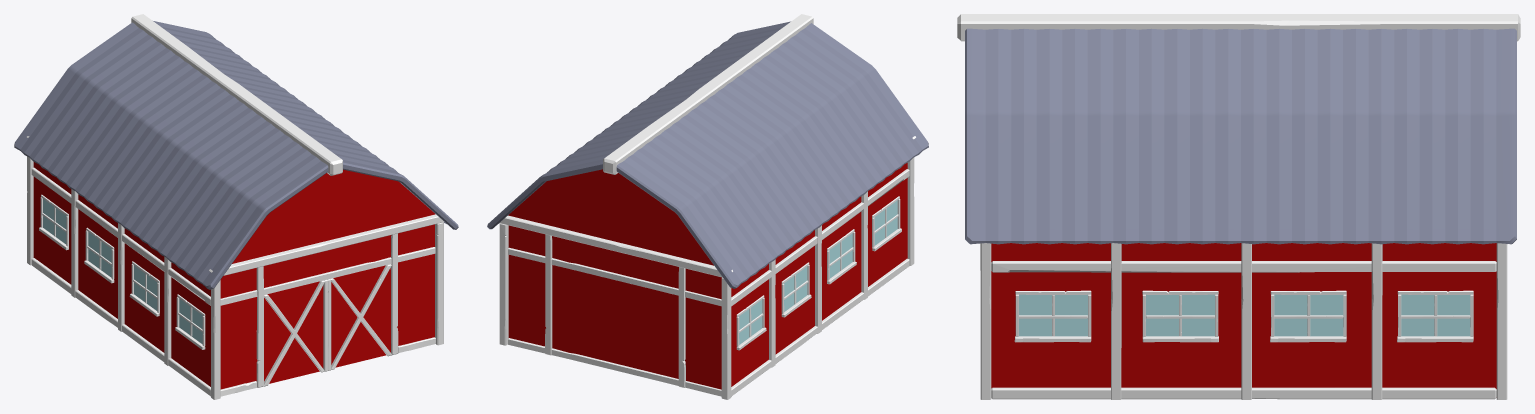
The model's file is barn02.glb.
3 renders of one model, left to right at view 1: azimuth 30°, elevation 25°; view 2: azimuth 150°, elevation 25°; view 3: azimuth 270°, elevation 25°, orthographic. The views are drawn at different scales.
Parts seen in each view (by area): view 1: barn02; view 2: barn02; view 3: barn02.
Part boxes in pixels (bbox=[...]): barn02: bbox=[14, 14, 458, 399]; barn02: bbox=[487, 14, 928, 399]; barn02: bbox=[957, 14, 1520, 399].
Size of the model in its own units: 16.9 by 13.91 by 23.37.
